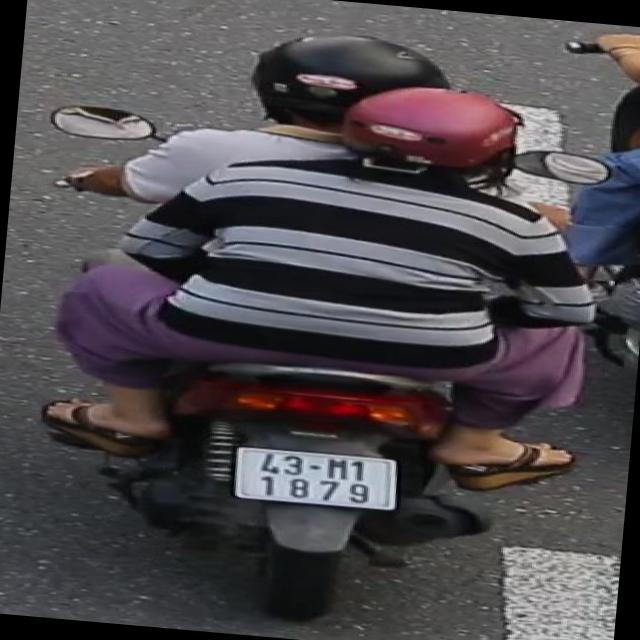LP: (218, 436, 404, 530)
helmet: (231, 21, 462, 130), (337, 74, 525, 191)
